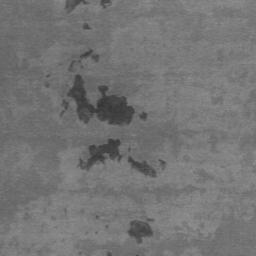Iron scale compression: (68, 75, 135, 127), (78, 138, 122, 171), (128, 156, 156, 177), (129, 220, 152, 245), (67, 0, 87, 12), (79, 52, 100, 63), (61, 99, 70, 116), (140, 112, 148, 122), (101, 0, 110, 7), (160, 159, 166, 169)
